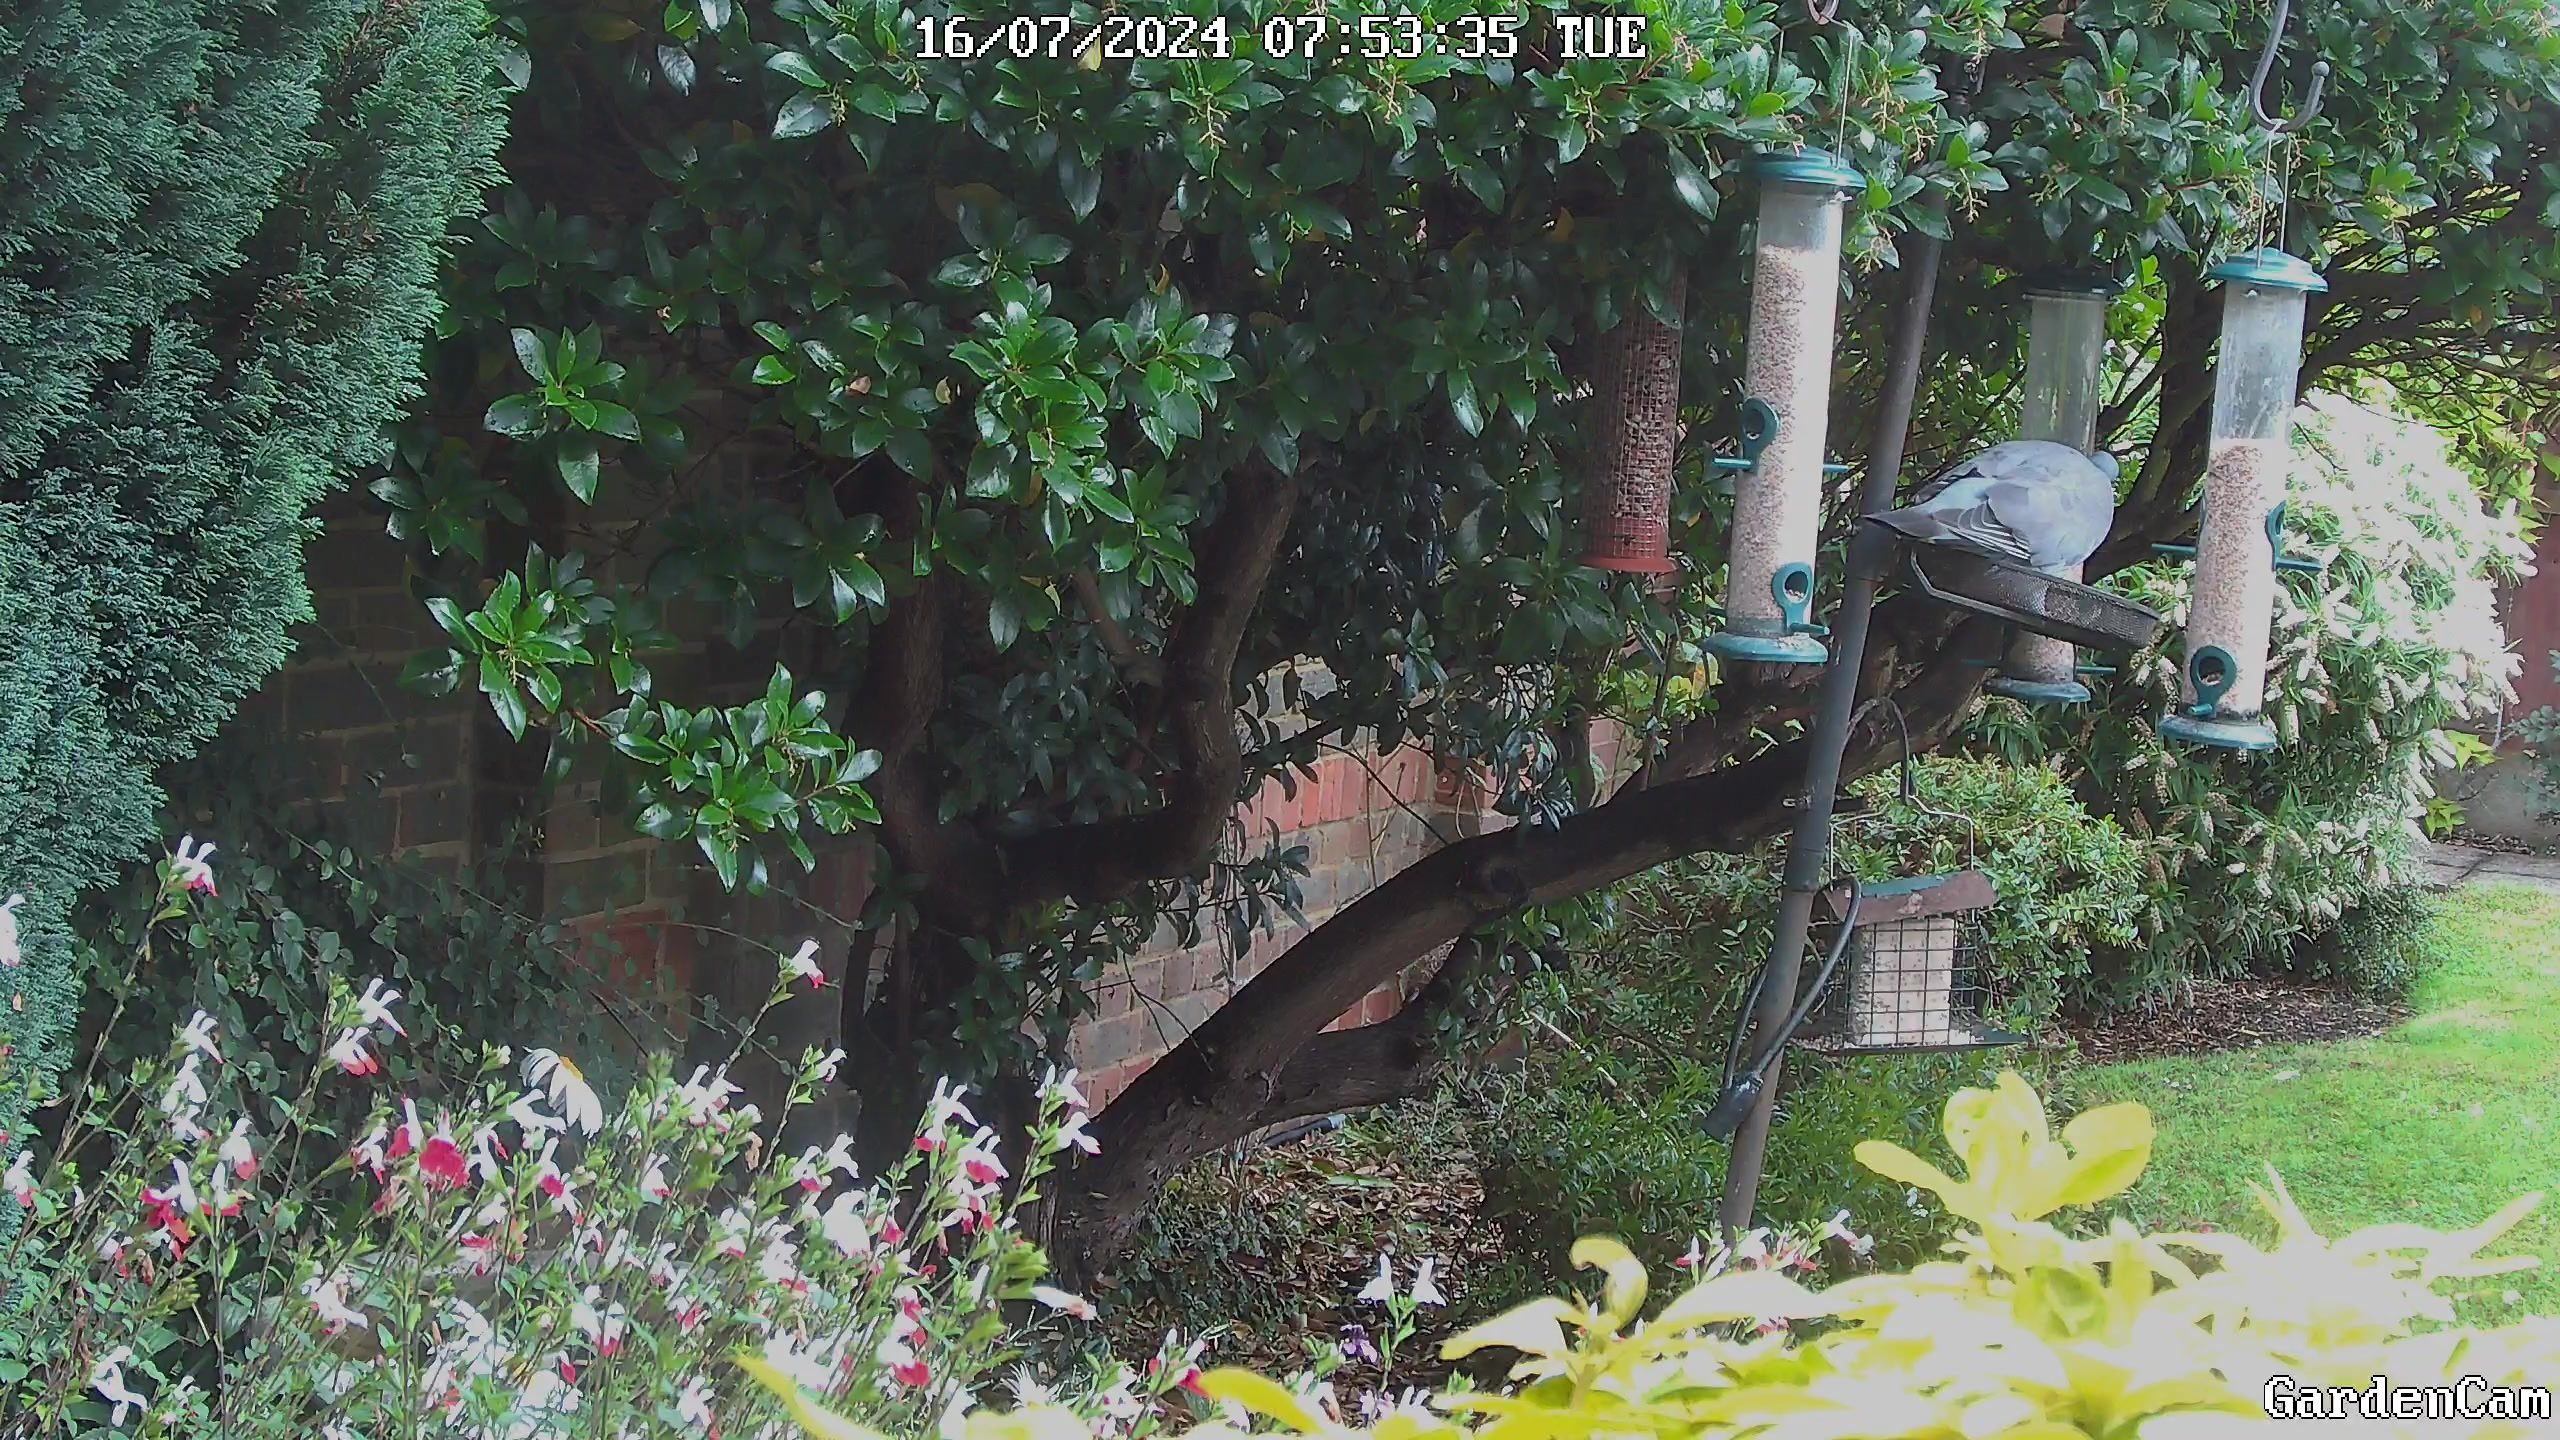Wood_Pigeon: (1850, 431, 2143, 600)
